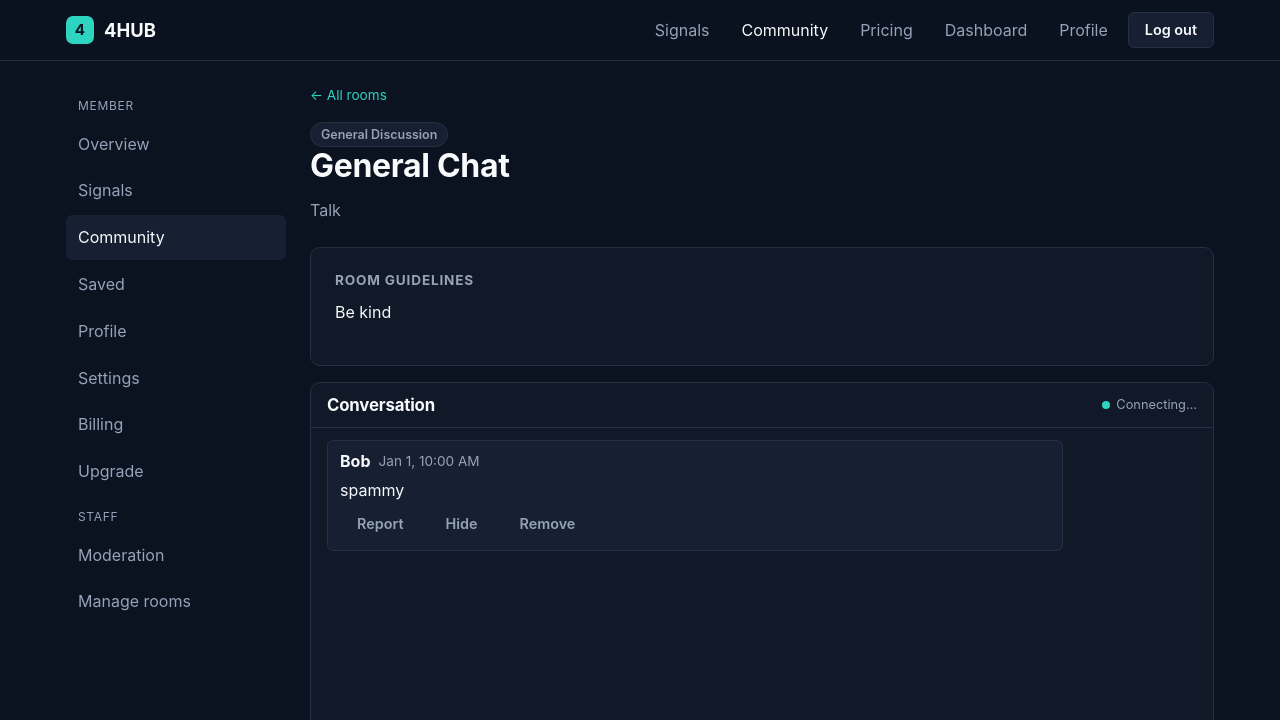
Test case: moderating from the chat (staff) › hides a message with a required reason
Click the button with aria-label "Hide message from Bob" at x=462, y=524, box [428,506,494,542]
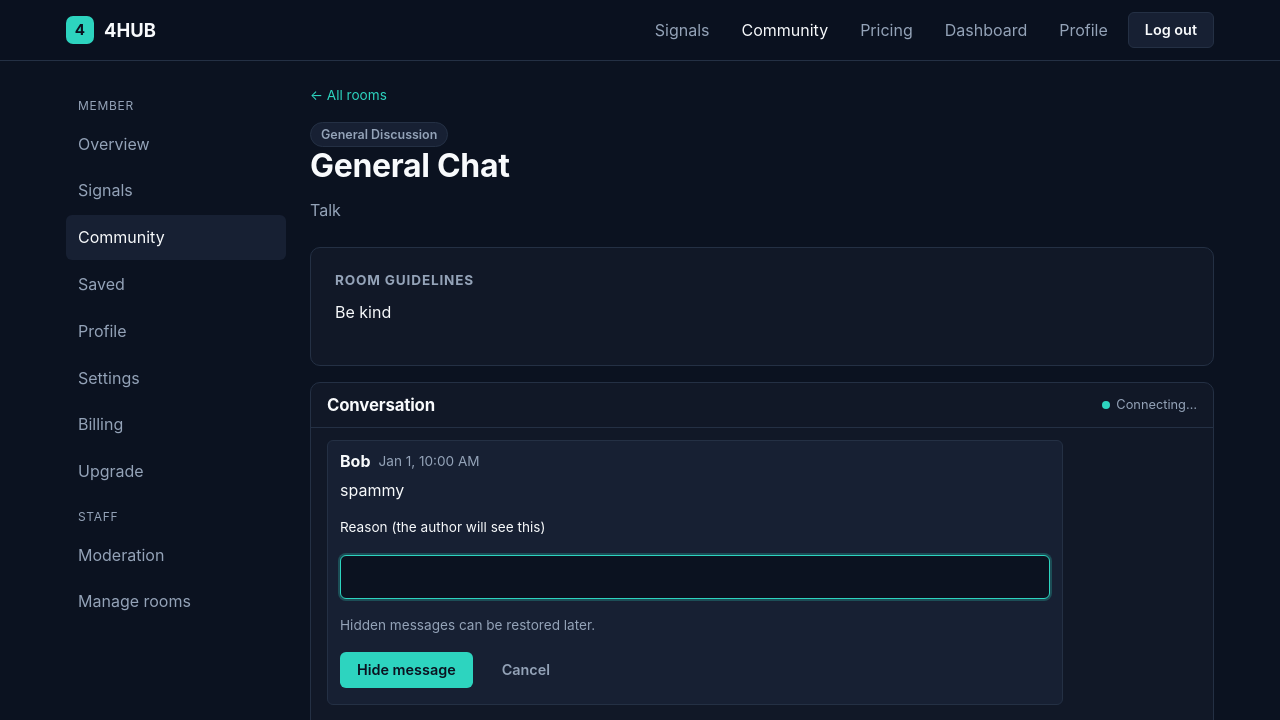
Click the button "Hide message" at x=406, y=670, box [340,652,473,688]
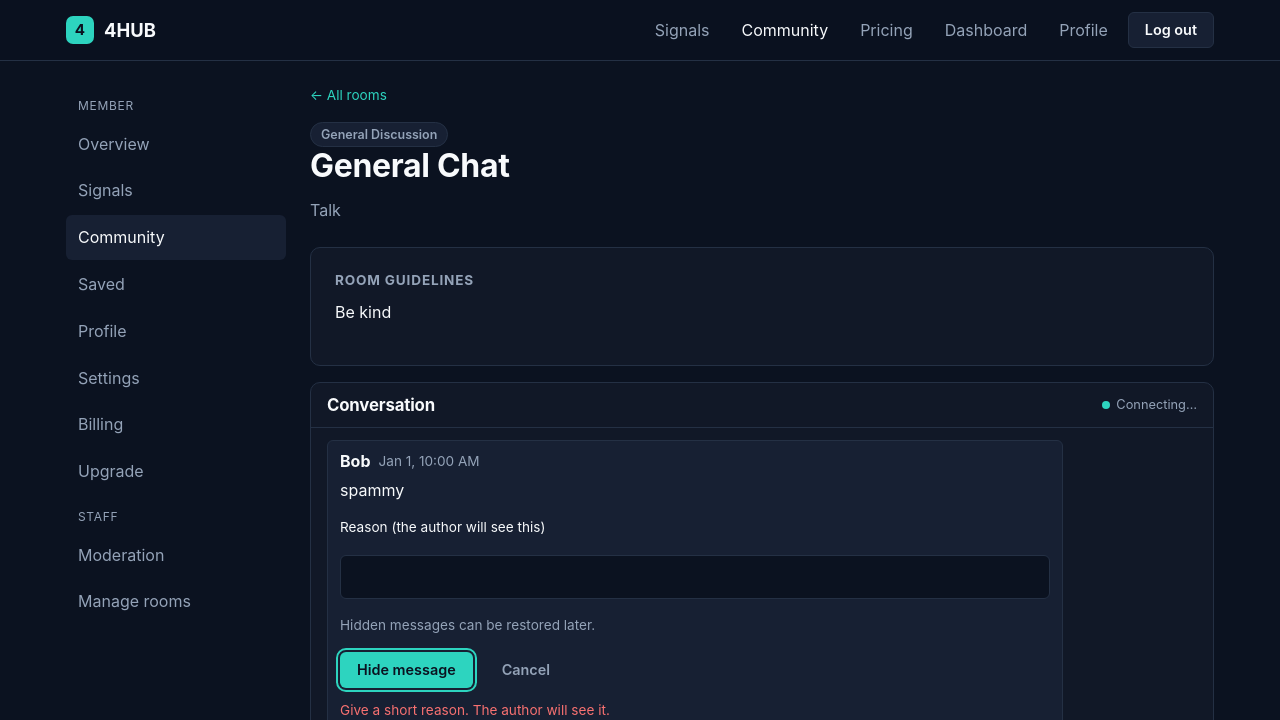
Check: the text "Give a short reason. The author will see it." is shown, box [340,702,610,718]
Type "Spam link" into the field labelled "Reason (the author will see this)" at x=695, y=577, box [340,555,1050,599]
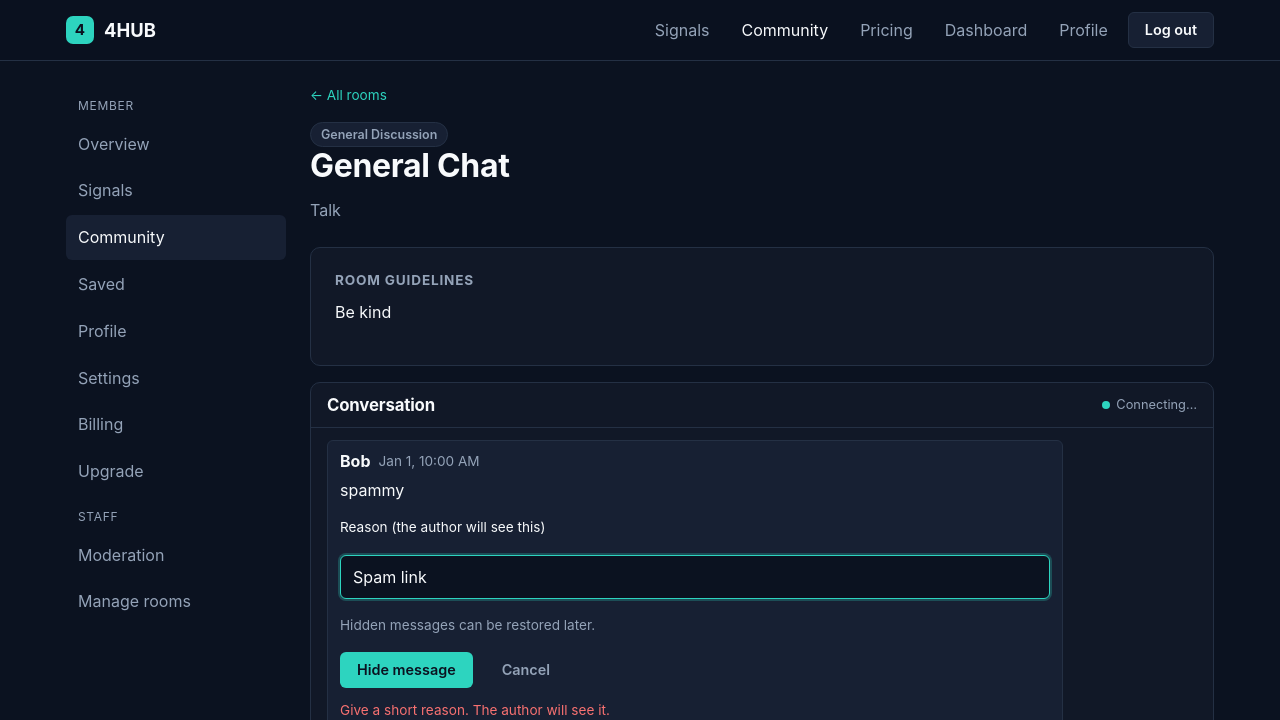
Click the button "Hide message" at x=406, y=670, box [340,652,473,688]
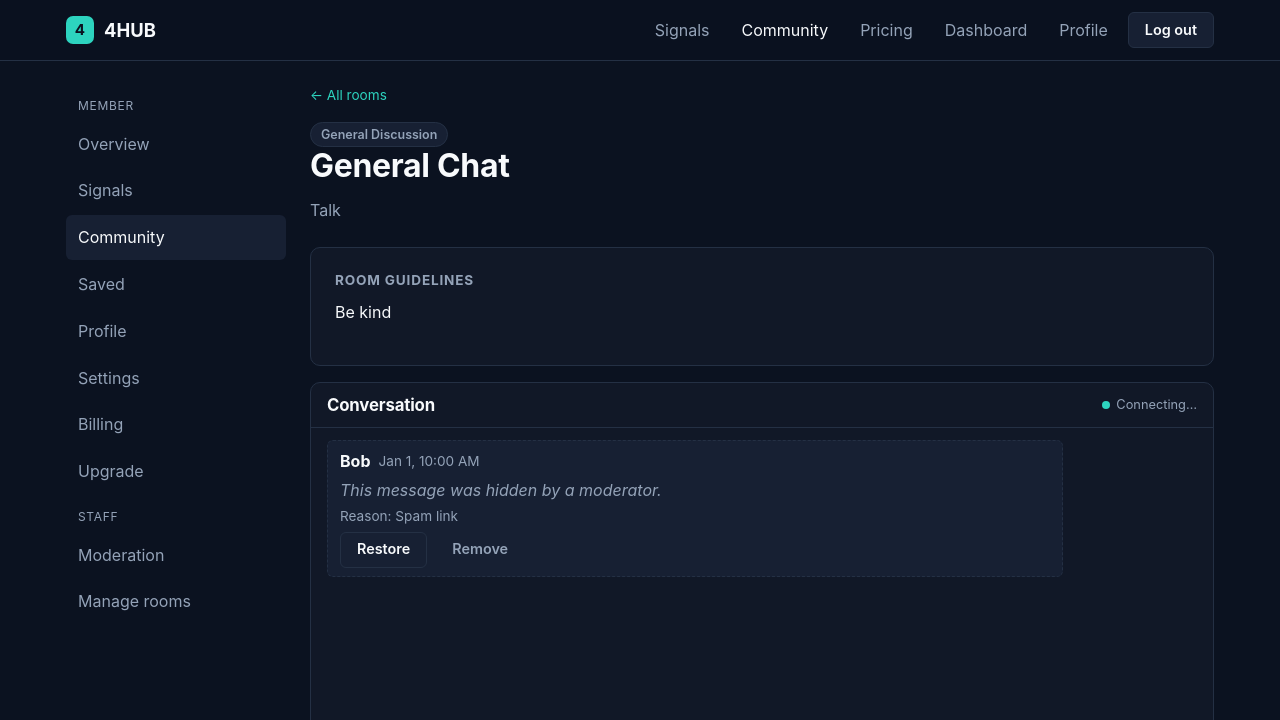
Check: the text "This message was hidden by a moderator." is shown, box [340,480,662,500]
Check: the text "Reason: Spam link" is shown, box [340,508,458,524]
